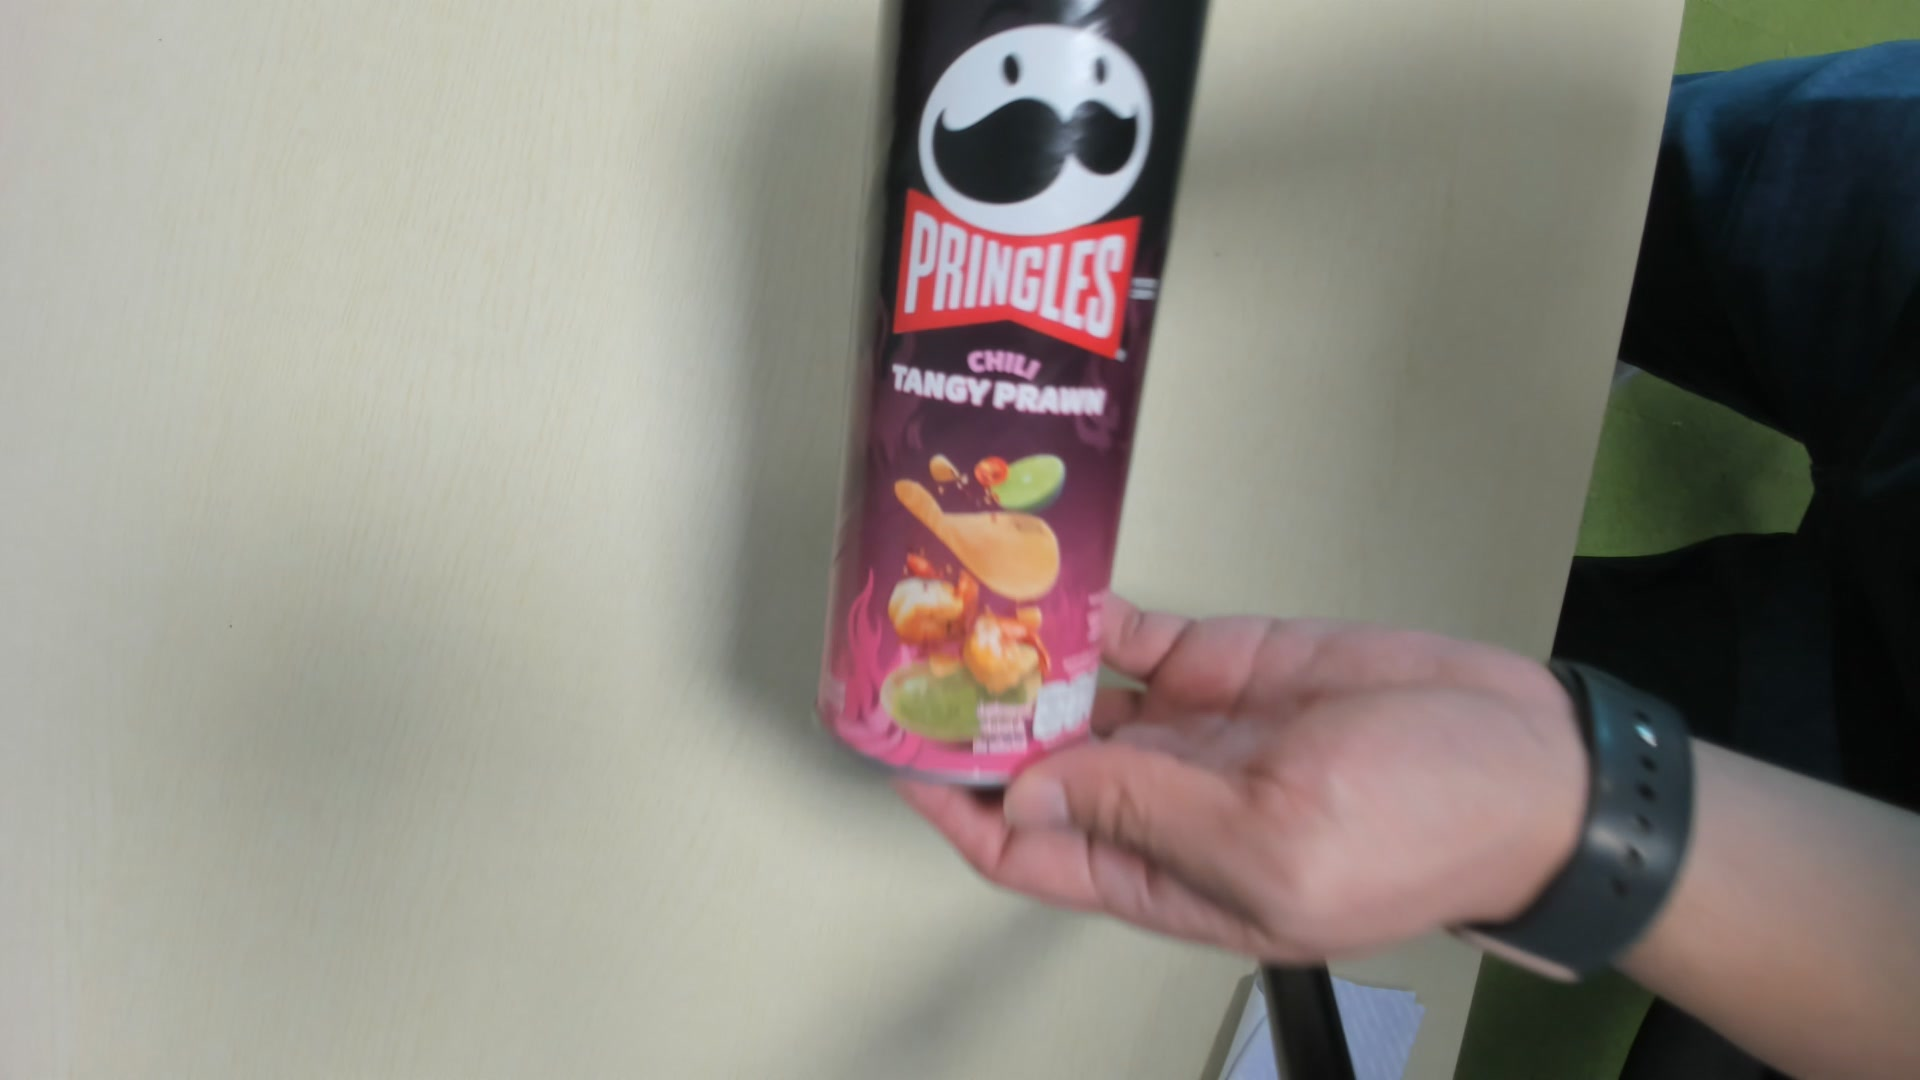PotatoChipsKeropok_0-99g_NonHalal_NonHealthy: (825, 8, 1215, 800)
